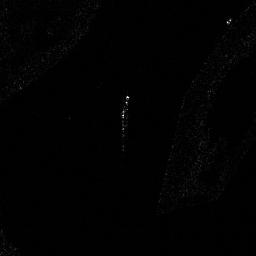ship: (120, 94, 129, 120)
